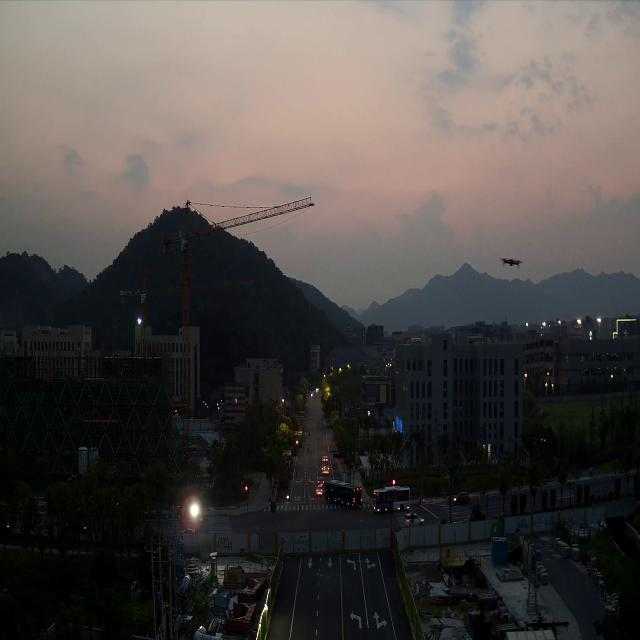UAV: (501, 256, 523, 268)
